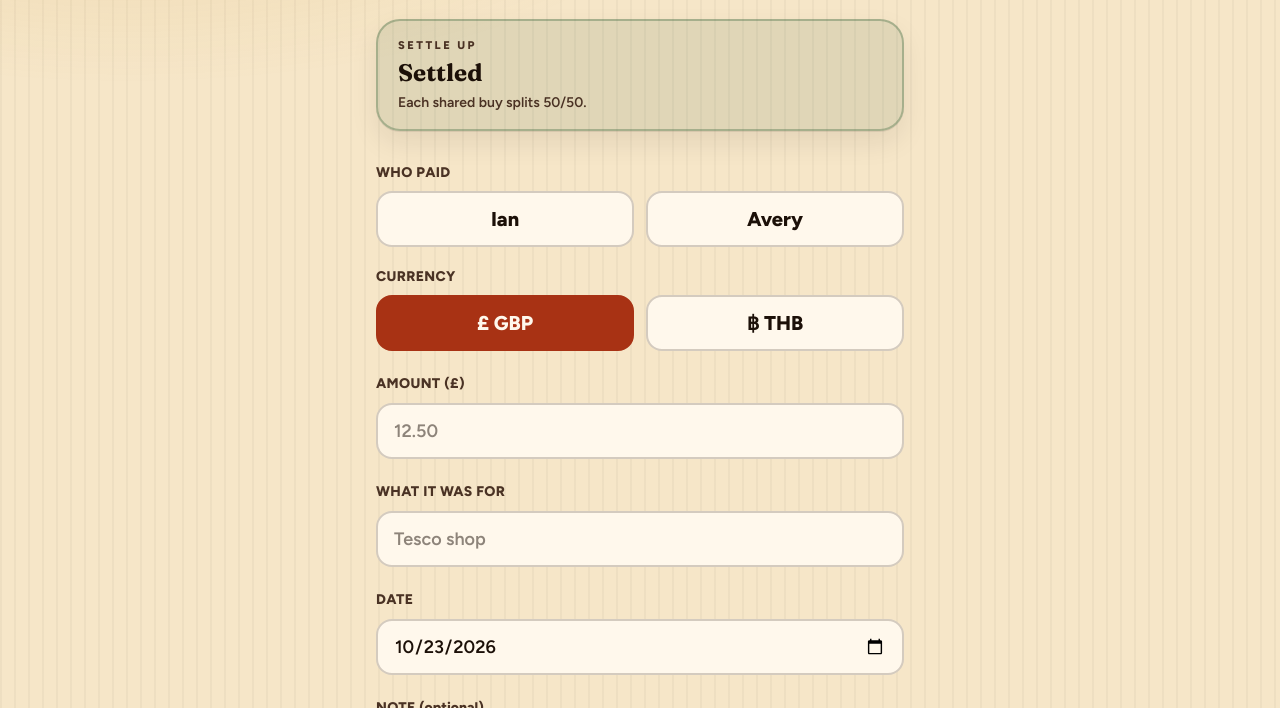
PaymentsTracker › refuses a THB amount that converts to less than a penny
Click the button "Ian": (505, 219) [376, 191, 634, 247]
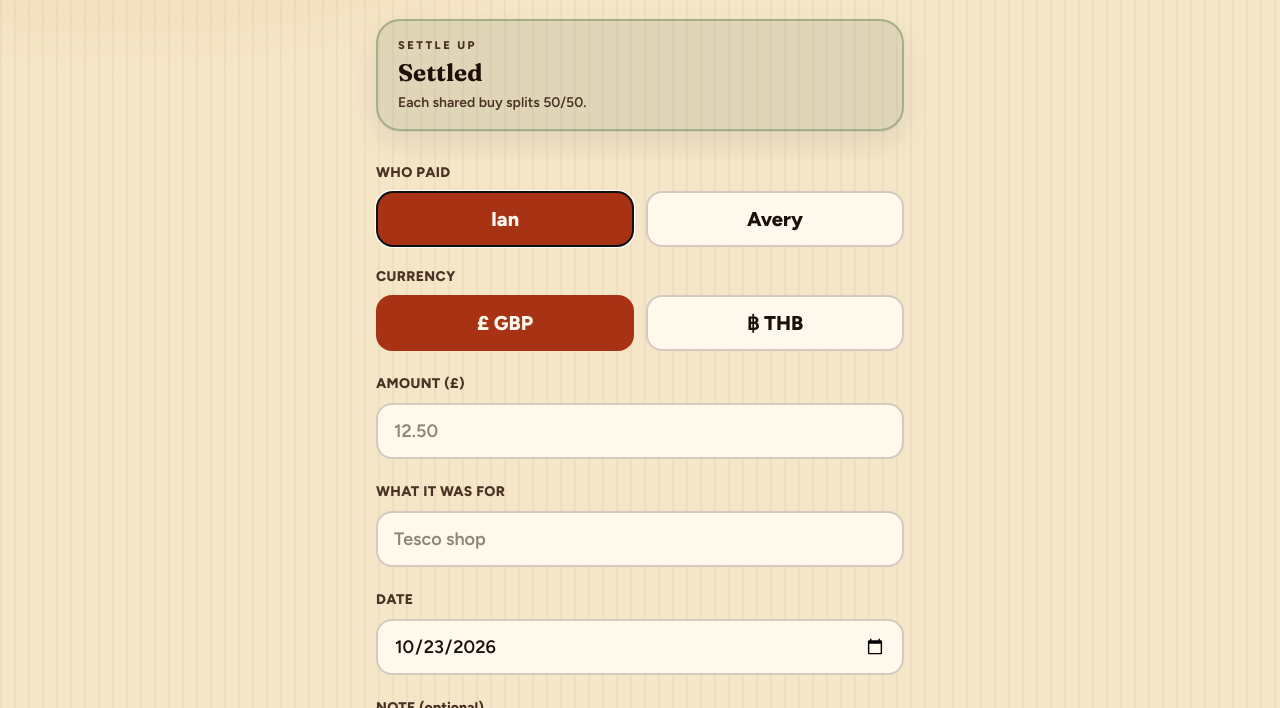
Click the button "฿ THB": (775, 323) [646, 295, 904, 351]
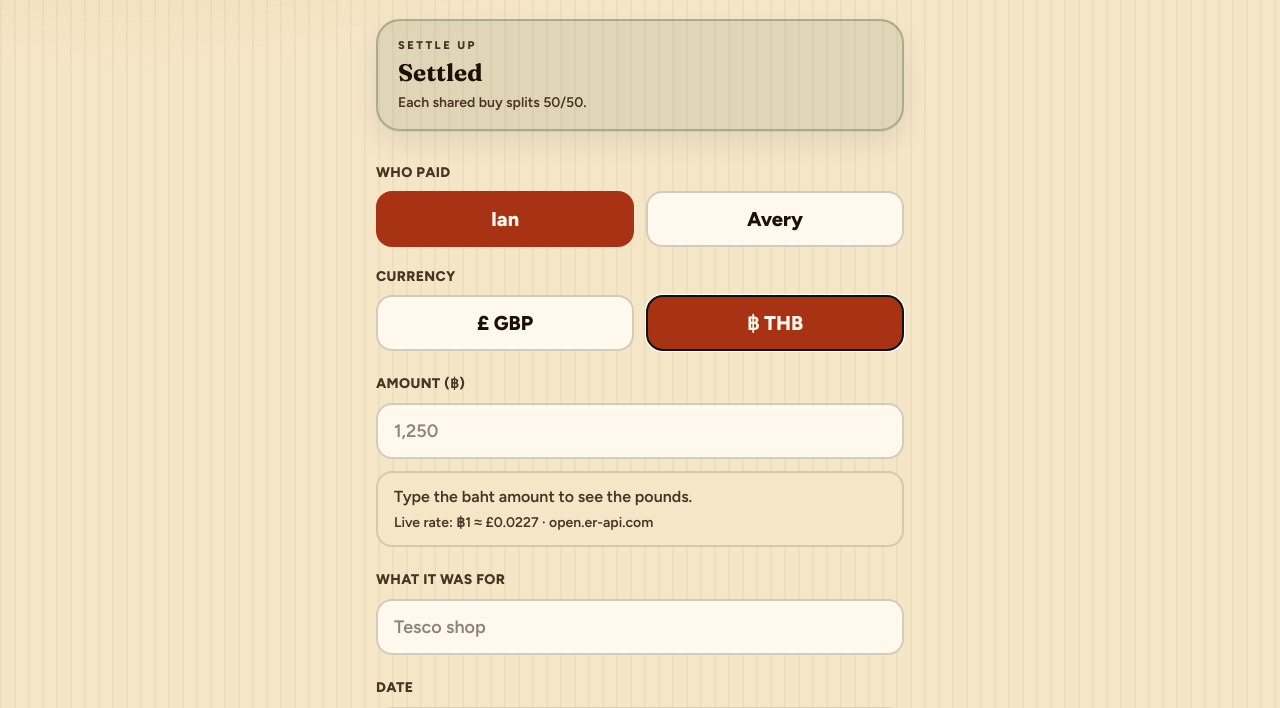
In the field labelled "Amount (฿)": (640, 431) [376, 403, 904, 459], type "0.2"
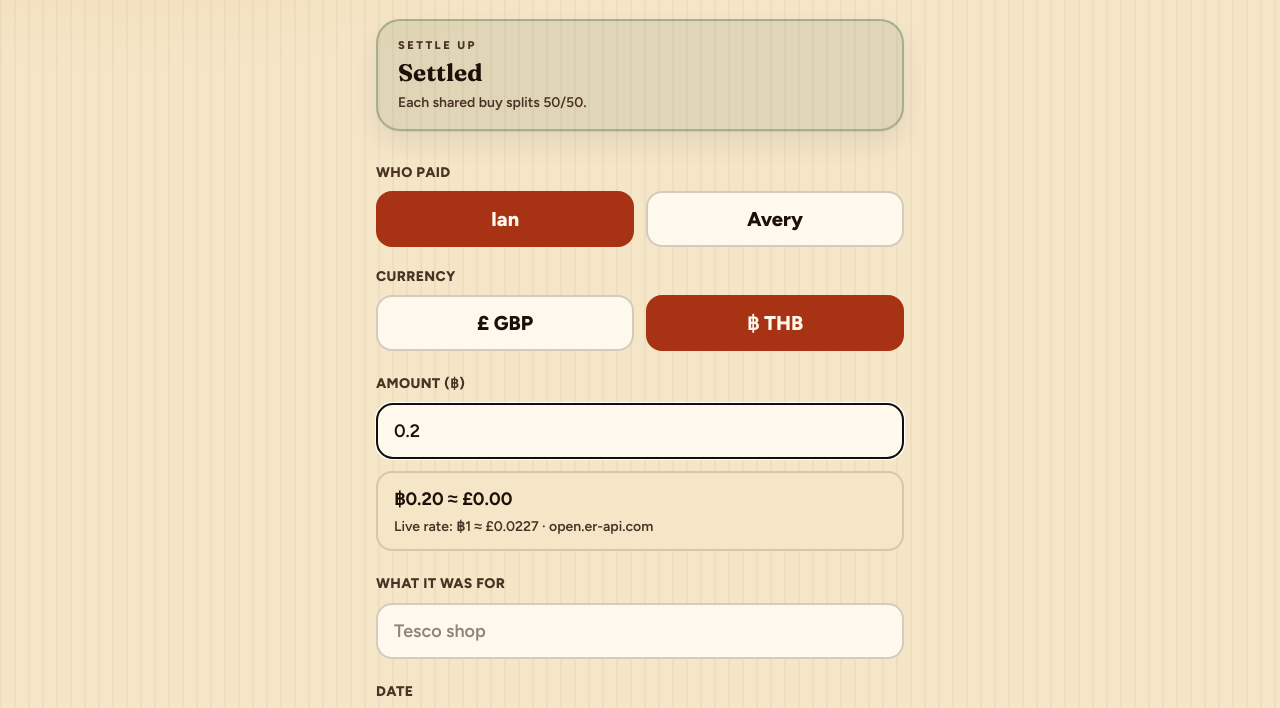
In the field labelled "What it was for": (640, 631) [376, 603, 904, 659], type "Satang"
(page scrolled)
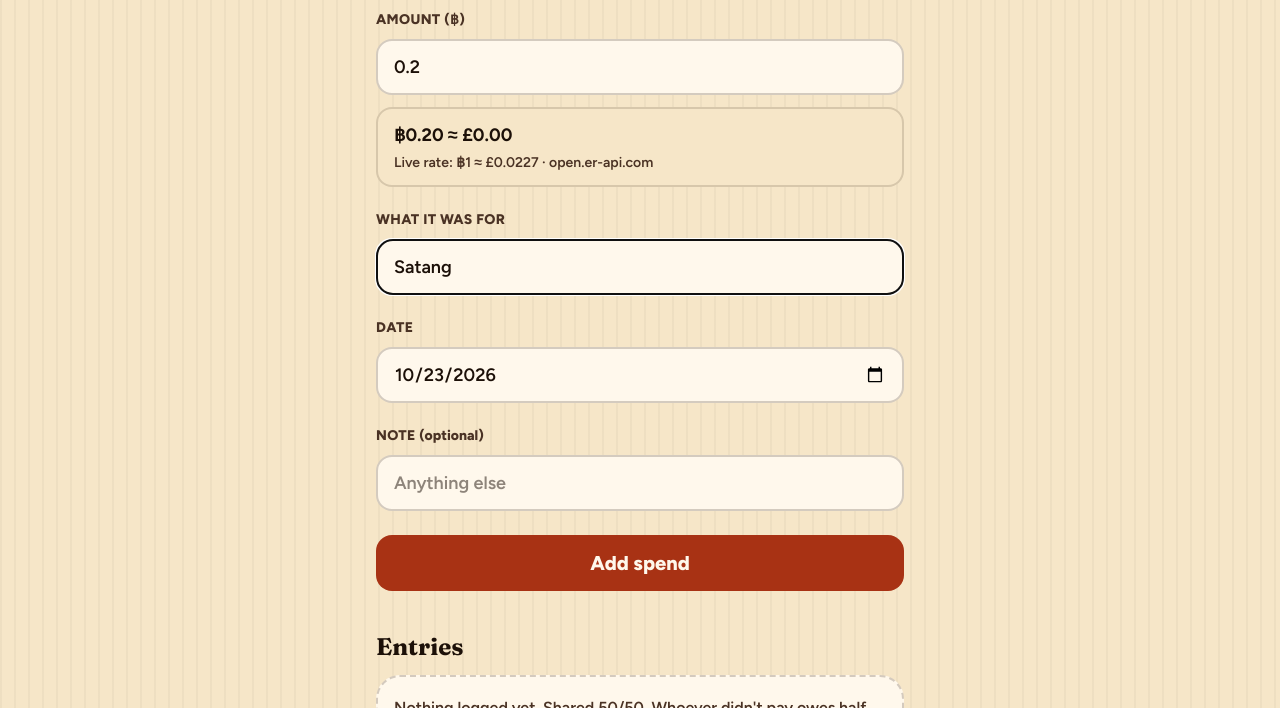
Click the button "Add spend": (640, 563) [376, 535, 904, 591]
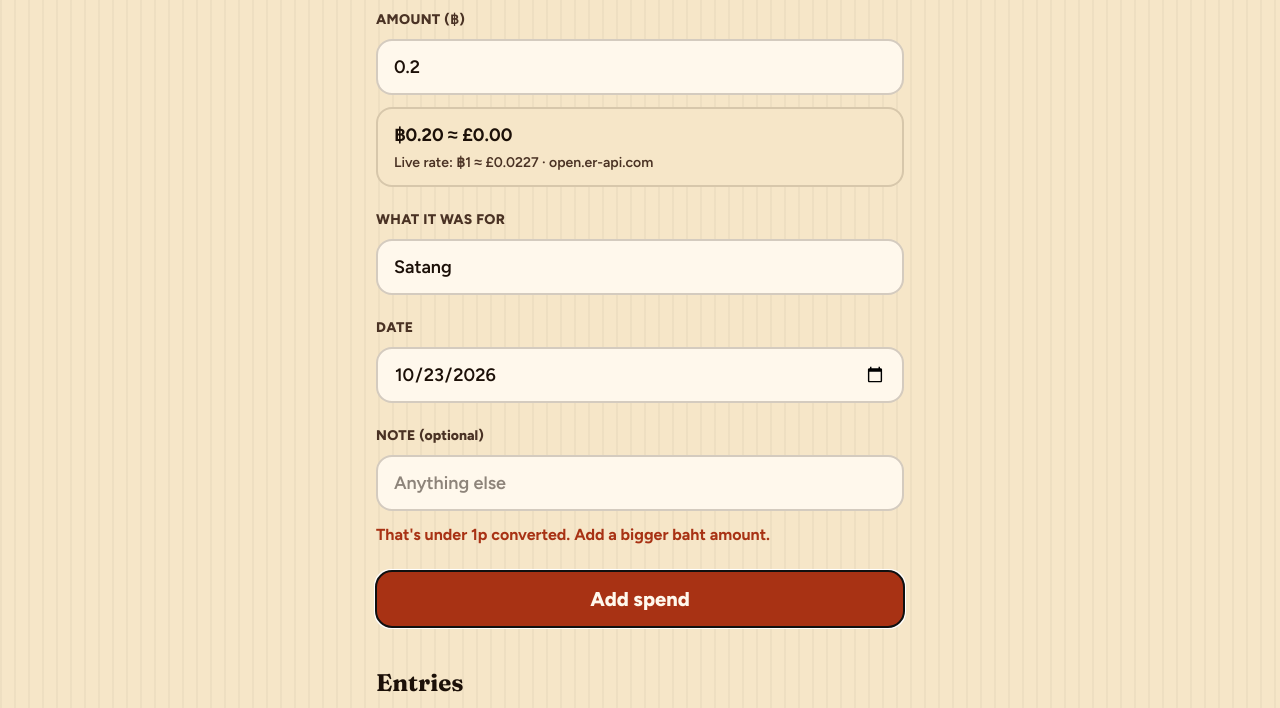
Result: the message shows "under 1p" at [376, 525, 770, 544]
